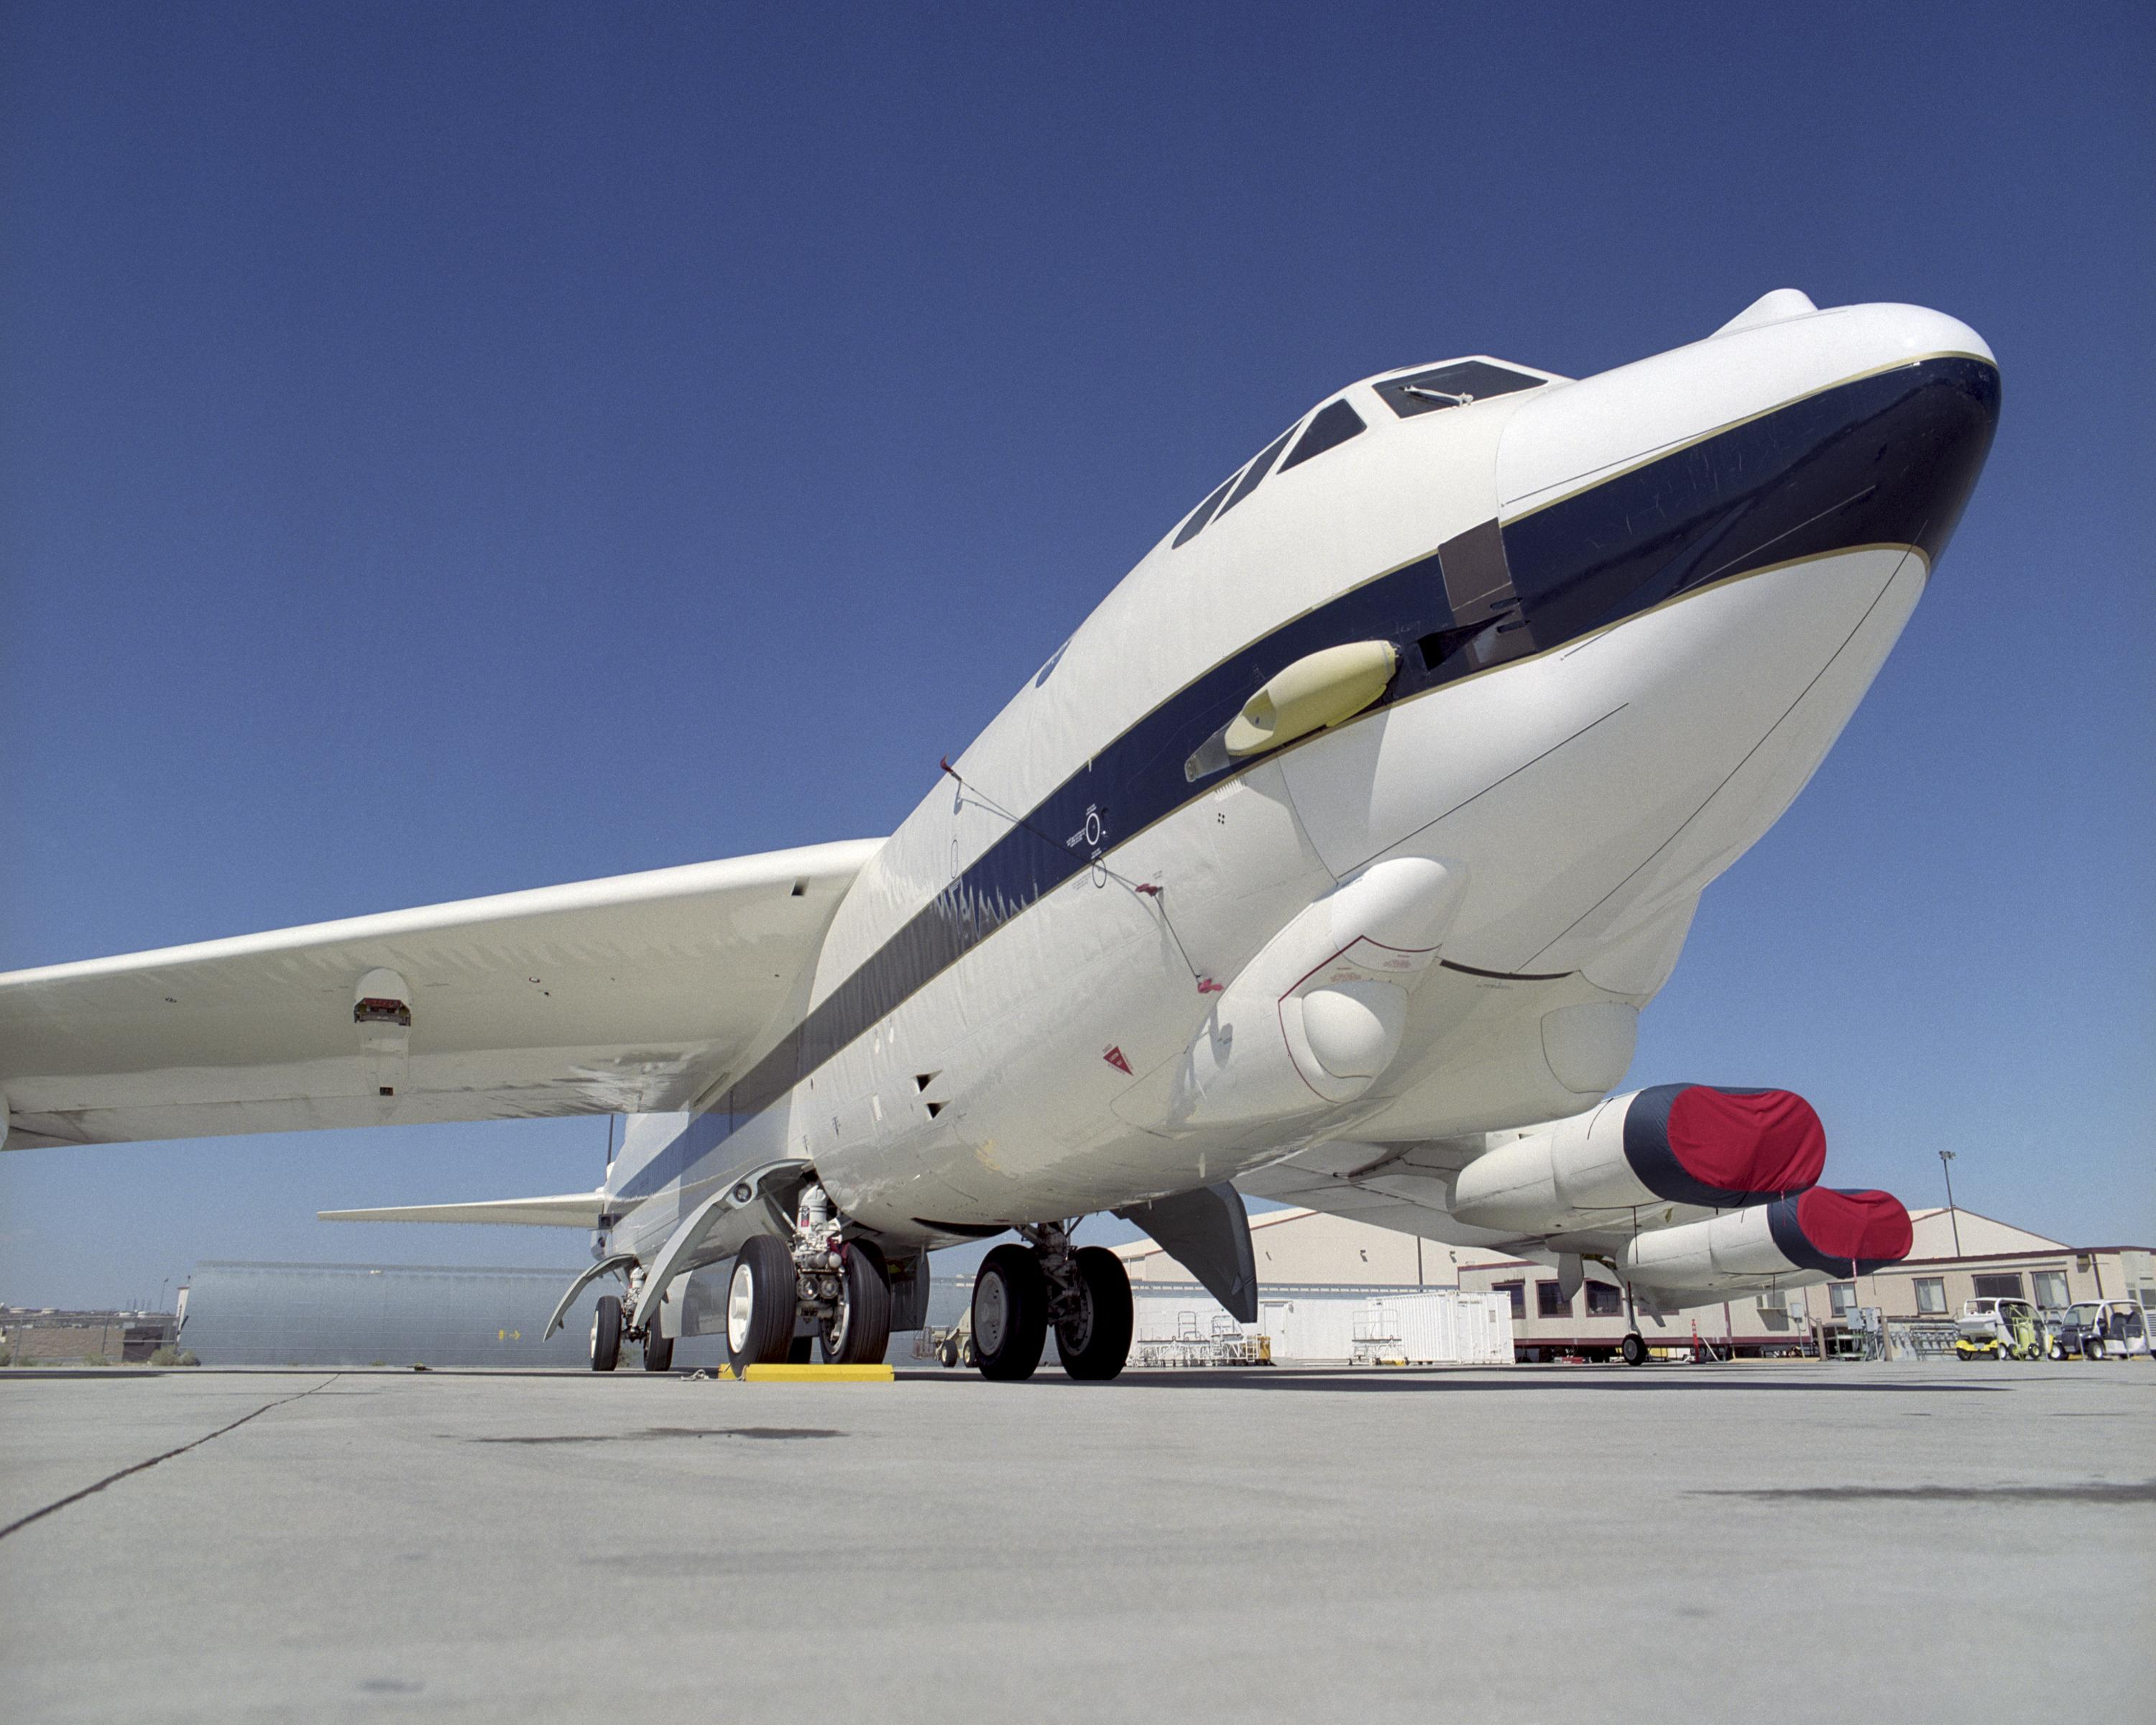B52: (0, 287, 2001, 1382)
